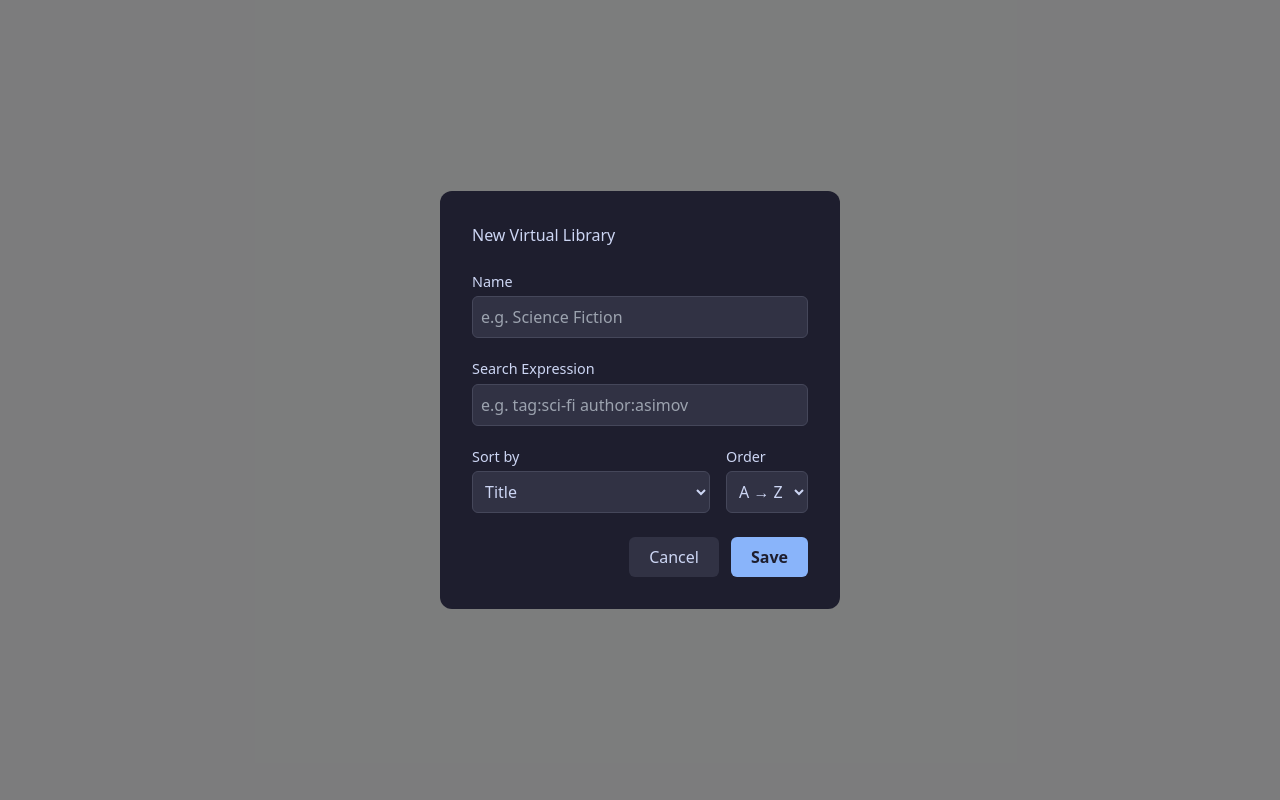
Test: VirtualLibraryEditor › shows validation error when search expression is empty
In the field with test id "vlib-name-input": [640, 317] box 472,296 -> 808,338, type "My VLib"
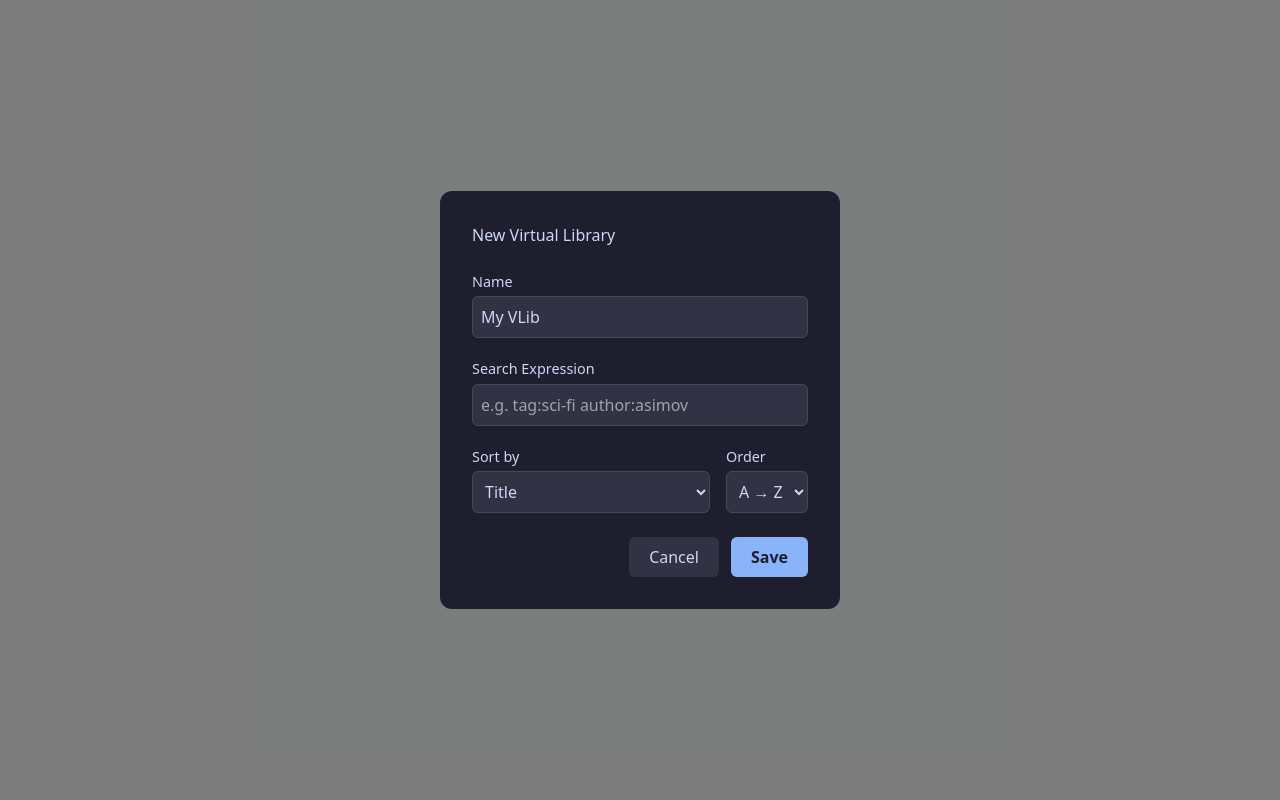
Click the button with test id "vlib-save-btn": [770, 557] box 731,537 -> 808,577
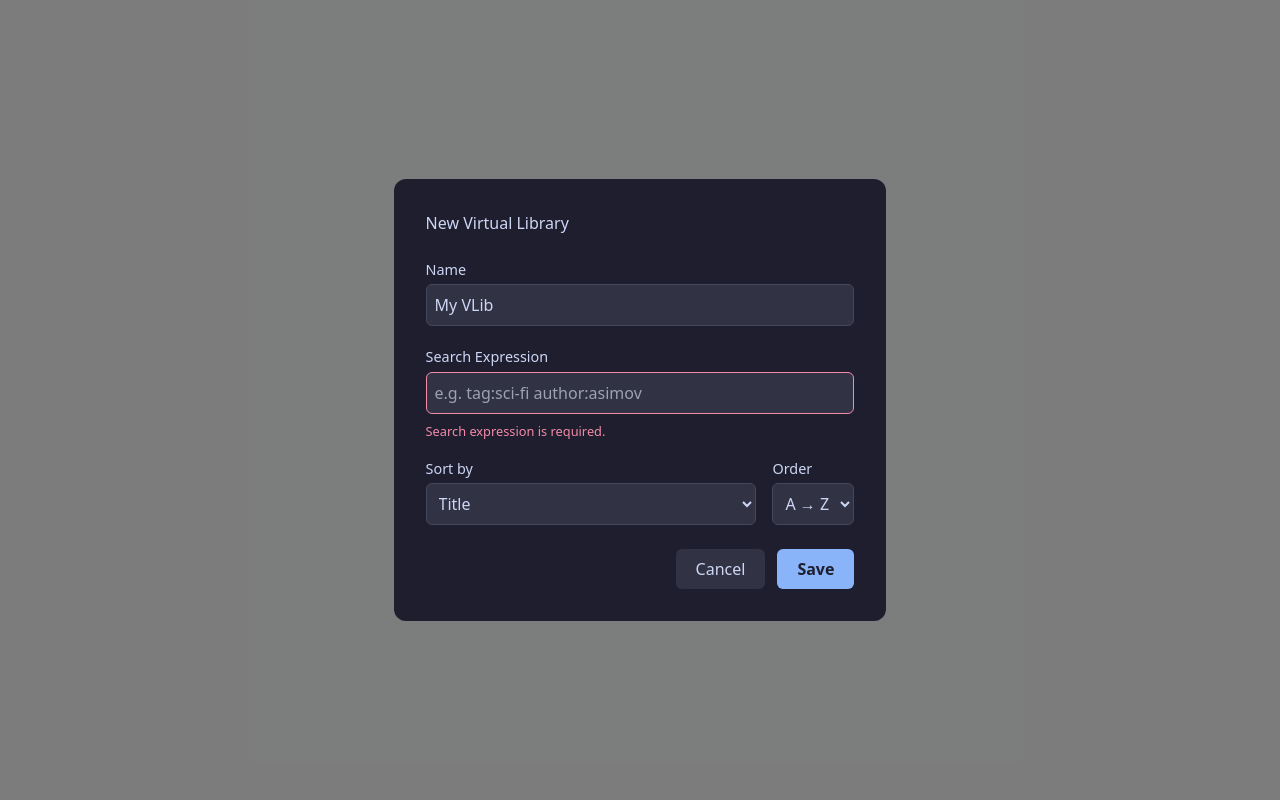
Check: the text "Search expression is required." is shown, box 426,422 -> 606,440
